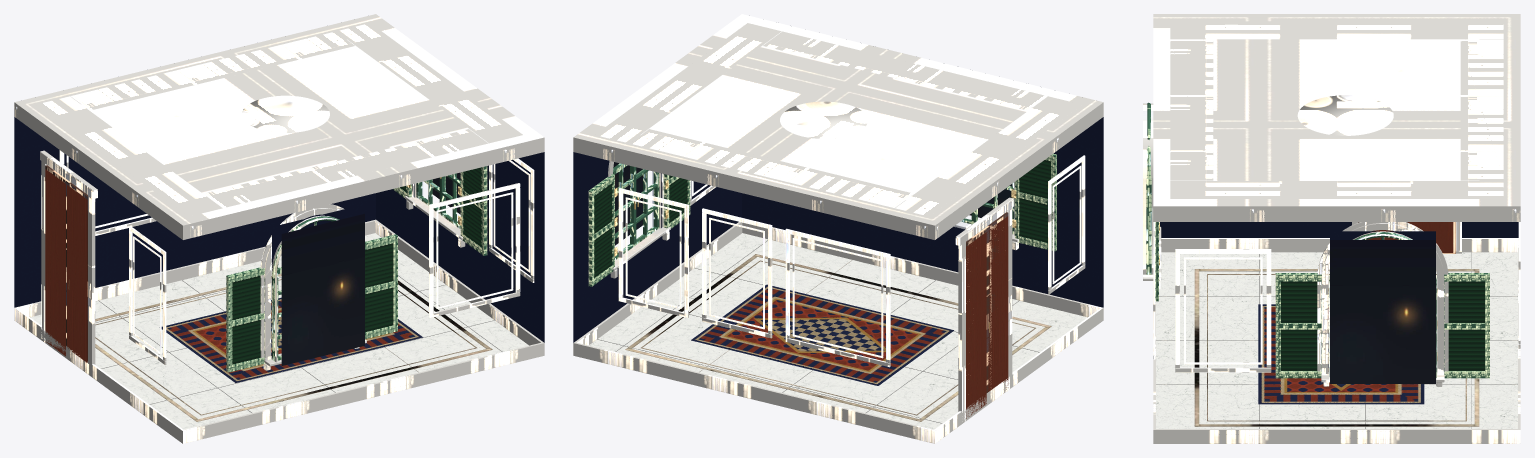
The model's file is room.glb.
3 renders of one model, left to right at view 1: azimuth 30°, elevation 25°; view 2: azimuth 150°, elevation 25°; view 3: azimuth 270°, elevation 25°, orthographic. The views are drawn at different scales.
Visible parts, largest first — view 1: Shell_Ceiling, Shell_Floor, LM_DropCeiling, Shell_Back Wall, LM_Skirting, Shell_Right Wall, Night_Night.001, LM_Door, LM_Cornice, LM_Panels, LM_ShuttersF, Shell_Rug (+8 smaller); view 2: Shell_Ceiling, Shell_Floor, LM_DropCeiling, Shell_Front Wall, LM_Skirting, Shell_Rug, LM_Panels, LM_Door, Shell_Right Wall, LM_Cornice, LM_ShuttersR, LM_Inlay (+6 smaller); view 3: Shell_Ceiling, Shell_Floor, LM_DropCeiling, Night_Night, LM_ShuttersR, LM_Skirting, LM_Cornice, Shell_Rug, LM_Panels, LM_FrameR, Shell_Left Wall, LM_Inlay (+6 smaller).
Boxes of the visible parts, x1=… form: Shell_Ceiling: x1=14, y1=14, x2=544, y2=225; Shell_Floor: x1=30, y1=233, x2=528, y2=429; LM_DropCeiling: x1=36, y1=23, x2=522, y2=216; Shell_Back Wall: x1=14, y1=117, x2=375, y2=307; LM_Skirting: x1=14, y1=219, x2=544, y2=443; Shell_Right Wall: x1=376, y1=152, x2=544, y2=342; Night_Night.001: x1=281, y1=213, x2=364, y2=365; LM_Door: x1=40, y1=150, x2=97, y2=374; LM_Cornice: x1=14, y1=102, x2=544, y2=239; LM_Panels: x1=59, y1=150, x2=534, y2=364; LM_ShuttersF: x1=226, y1=234, x2=397, y2=372; Shell_Rug: x1=159, y1=297, x2=422, y2=382; Shell_Ceiling: x1=573, y1=14, x2=1103, y2=225; Shell_Floor: x1=589, y1=233, x2=1087, y2=429; LM_DropCeiling: x1=595, y1=23, x2=1081, y2=216; Shell_Front Wall: x1=742, y1=117, x2=1103, y2=307; LM_Skirting: x1=573, y1=222, x2=1103, y2=443; Shell_Rug: x1=691, y1=284, x2=953, y2=385; LM_Panels: x1=618, y1=155, x2=1085, y2=367; LM_Door: x1=955, y1=197, x2=1013, y2=422; Shell_Right Wall: x1=573, y1=152, x2=741, y2=342; LM_Cornice: x1=573, y1=102, x2=1103, y2=239; LM_ShuttersR: x1=588, y1=174, x2=690, y2=286; LM_Inlay: x1=625, y1=254, x2=1051, y2=421; Shell_Ceiling: x1=1153, y1=14, x2=1520, y2=206; Shell_Floor: x1=1156, y1=252, x2=1517, y2=428; LM_DropCeiling: x1=1170, y1=21, x2=1503, y2=198; Night_Night: x1=1330, y1=240, x2=1435, y2=383; LM_ShuttersR: x1=1275, y1=273, x2=1489, y2=378; LM_Skirting: x1=1153, y1=238, x2=1520, y2=443; LM_Cornice: x1=1153, y1=206, x2=1520, y2=221; Shell_Rug: x1=1258, y1=304, x2=1424, y2=404; LM_Panels: x1=1153, y1=222, x2=1520, y2=372; LM_FrameR: x1=1317, y1=222, x2=1448, y2=386; Shell_Left Wall: x1=1160, y1=222, x2=1518, y2=237; LM_Inlay: x1=1194, y1=269, x2=1479, y2=426.
Size of the model in its own units: 5.44 by 3 by 4.44.
Materials: 38 (13 with a texture image).
